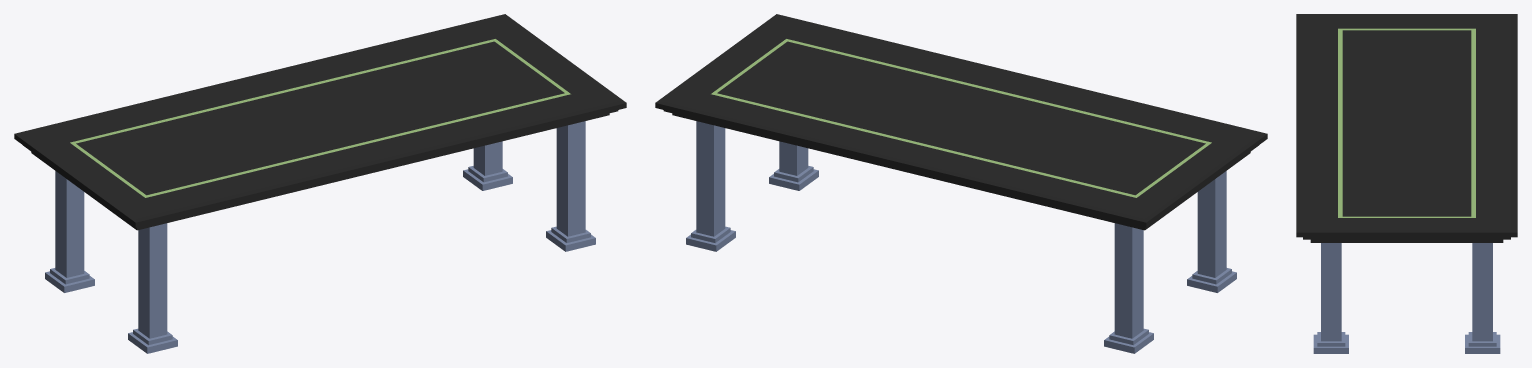
The model's file is table.fbx.
3 renders of one model, left to right at view 1: azimuth 30°, elevation 25°; view 2: azimuth 150°, elevation 25°; view 3: azimuth 270°, elevation 25°, orthographic. The views are drawn at different scales.
Parts seen in each view (by area): view 1: Box001; view 2: Box001; view 3: Box001.
Part boxes in pixels (x1,y1,x2,y2): Box001: (14, 14, 626, 353); Box001: (655, 14, 1267, 353); Box001: (1296, 14, 1517, 353).
Size of the model in its own units: 720 by 309 by 201.
